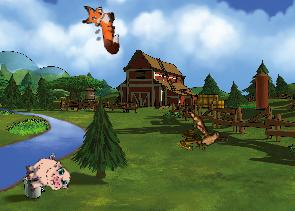eagle: (177, 108, 233, 157)
fox: (80, 1, 121, 57)
pig: (22, 151, 72, 199)
